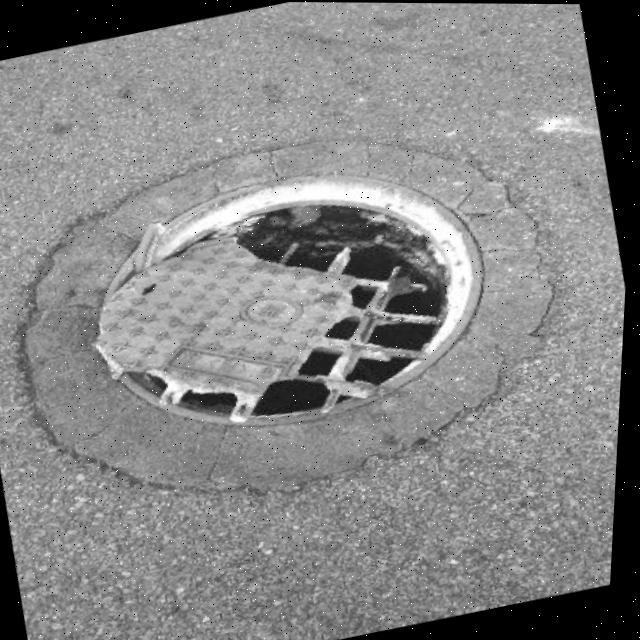manhole: (0, 100, 568, 505)
